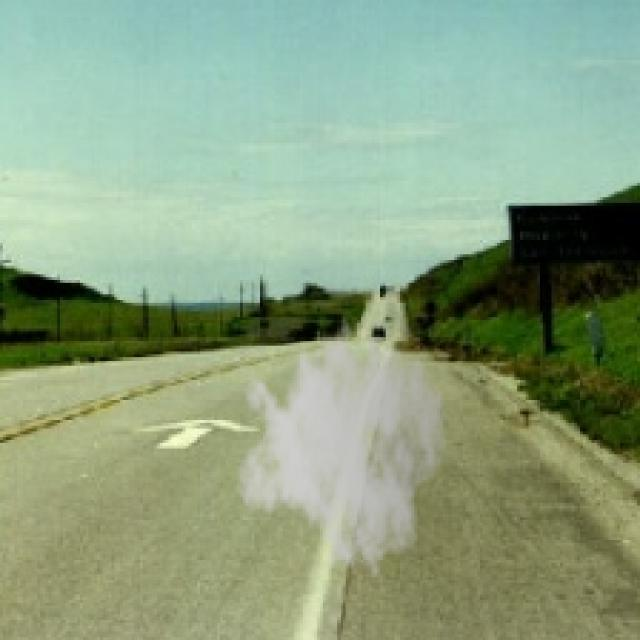Smoke: (234, 300, 449, 580)
